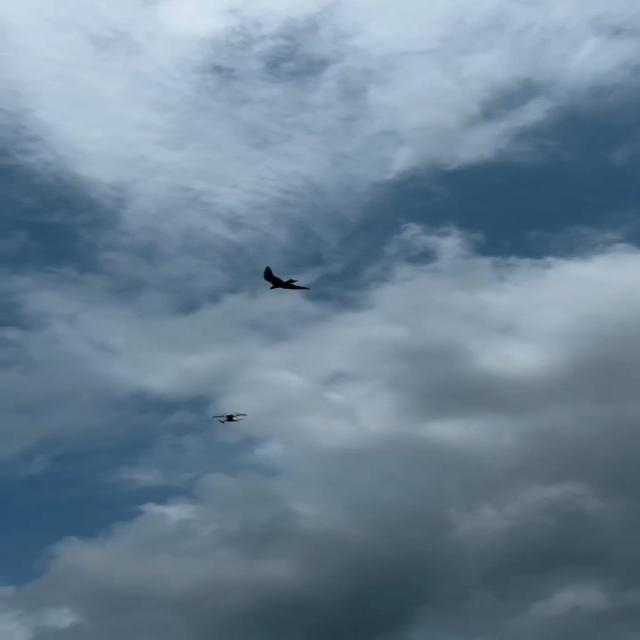bird: (262, 266, 310, 290)
drone: (211, 412, 247, 424)
